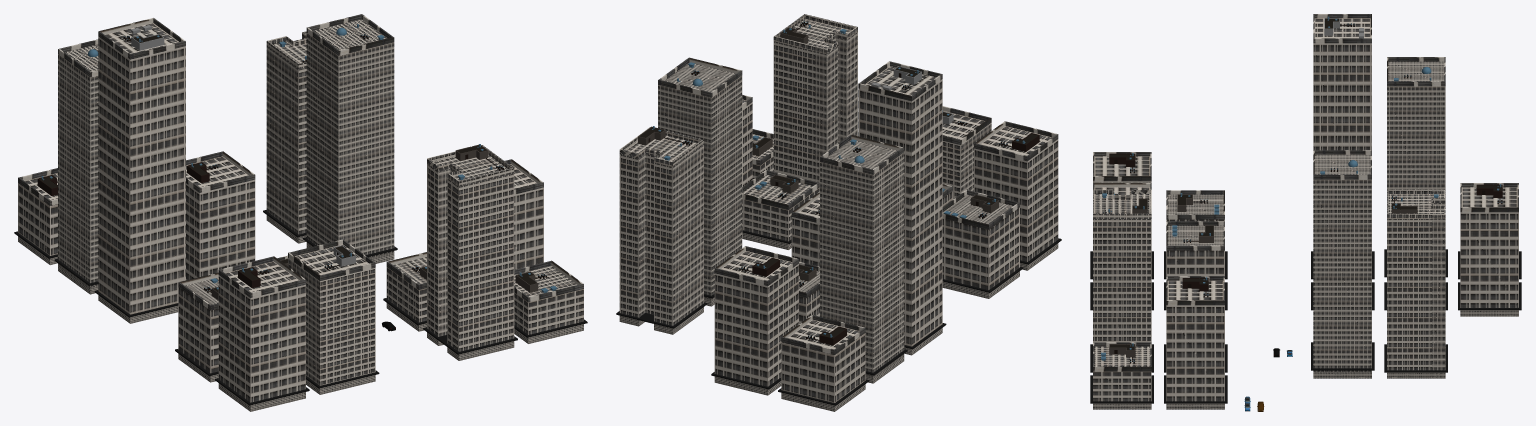
The model's file is city_test.obj.
3 views of the same model, side by side, from view 1: azimuth 30°, elevation 25°; view 2: azimuth 150°, elevation 25°; view 3: azimuth 270°, elevation 25° (orthographic). The views are drawn at different scales.
Parts seen in each view (by area): view 1: Blue.010_Cube.017, Cube.421_Cube.007, Cube.386_Cube.014, Cube.147_Cube.004, Residential2.020_Cube.013, Cube.170_Cube.007, Cube.337_Cube.014, Cube.509_Cube.004, Cube.162_Cube.021, Cube.324_Cube.020, Cube.409_Cube.019, Cube.384_Cube.004 (+1 smaller); view 2: Cube.170_Cube.007, Cube.337_Cube.014, Blue.010_Cube.017, Cube.386_Cube.014, Cube.421_Cube.007, Cube.510_Cube.004, Cube.147_Cube.004, Cube.324_Cube.020, Cube.409_Cube.019, Cube.489_Cube.026, Residential2.020_Cube.013, Cube.509_Cube.004 (+3 smaller); view 3: Cube.421_Cube.007, Cube.337_Cube.014, Cube.386_Cube.014, Blue.010_Cube.017, Cube.384_Cube.004, Cube.510_Cube.004, Cube.170_Cube.007, Cube.162_Cube.021, Cube.418_Cube.025, Cube.324_Cube.020, Cube.147_Cube.004, Residential2.020_Cube.013.
Boxes of the visible parts, x1,y1,x2,y2 form: Blue.010_Cube.017: [94, 18, 185, 323]; Cube.421_Cube.007: [303, 14, 397, 263]; Cube.386_Cube.014: [423, 144, 517, 360]; Cube.147_Cube.004: [215, 256, 309, 411]; Residential2.020_Cube.013: [288, 239, 379, 394]; Cube.170_Cube.007: [54, 39, 98, 294]; Cube.337_Cube.014: [263, 31, 306, 243]; Cube.509_Cube.004: [186, 151, 255, 280]; Cube.162_Cube.021: [514, 260, 587, 343]; Cube.324_Cube.020: [175, 272, 218, 382]; Cube.409_Cube.019: [14, 168, 57, 265]; Cube.384_Cube.004: [505, 159, 543, 269]; Cube.170_Cube.007: [820, 134, 907, 383]; Cube.337_Cube.014: [616, 126, 707, 334]; Blue.010_Cube.017: [858, 61, 946, 355]; Cube.386_Cube.014: [773, 14, 857, 190]; Cube.421_Cube.007: [658, 57, 742, 306]; Cube.510_Cube.004: [711, 246, 798, 395]; Cube.147_Cube.004: [974, 121, 1061, 270]; Cube.324_Cube.020: [942, 189, 1023, 298]; Cube.409_Cube.019: [778, 314, 868, 411]; Cube.489_Cube.026: [742, 170, 819, 249]; Residential2.020_Cube.013: [942, 106, 991, 198]; Cube.509_Cube.004: [791, 191, 819, 266]; Cube.421_Cube.007: [1311, 150, 1374, 378]; Cube.337_Cube.014: [1384, 189, 1447, 378]; Cube.386_Cube.014: [1090, 189, 1153, 372]; Blue.010_Cube.017: [1311, 14, 1374, 279]; Cube.384_Cube.004: [1164, 276, 1227, 409]; Cube.510_Cube.004: [1458, 183, 1521, 316]; Cube.170_Cube.007: [1384, 57, 1447, 277]; Cube.162_Cube.021: [1090, 342, 1153, 409]; Cube.418_Cube.025: [1164, 221, 1227, 310]; Cube.324_Cube.020: [1164, 190, 1227, 279]; Cube.147_Cube.004: [1090, 152, 1153, 279]; Residential2.020_Cube.013: [1090, 183, 1153, 310].
Bounding box in the file's own units: 2.47 × 1.89 × 2.93.
